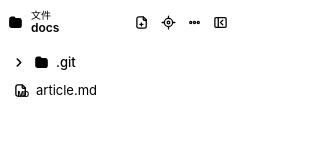
Test: FileTree live refresh › can hide system folders from the file tree menu
Expected: the text ".git" is shown, [56,54,76,70]
Expected: the text "article.md" is shown, [36,82,97,98]
Click the button named "更多文件树操作". click: point(194, 22)
box: [182,10,206,34]
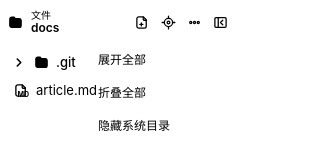
Click the menu item "隐藏系统目录". click: point(158, 124)
box: [88,108,228,141]
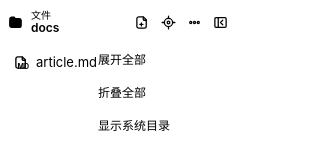
Expected: the text "article.md" is shown, [36,54,97,70]
Expected: the text ".git" is gone
